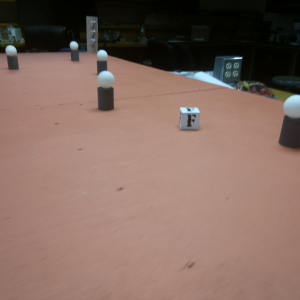obstacle: (279, 95, 300, 150), (98, 70, 114, 110), (4, 44, 20, 70), (97, 50, 108, 75), (69, 40, 80, 63)
